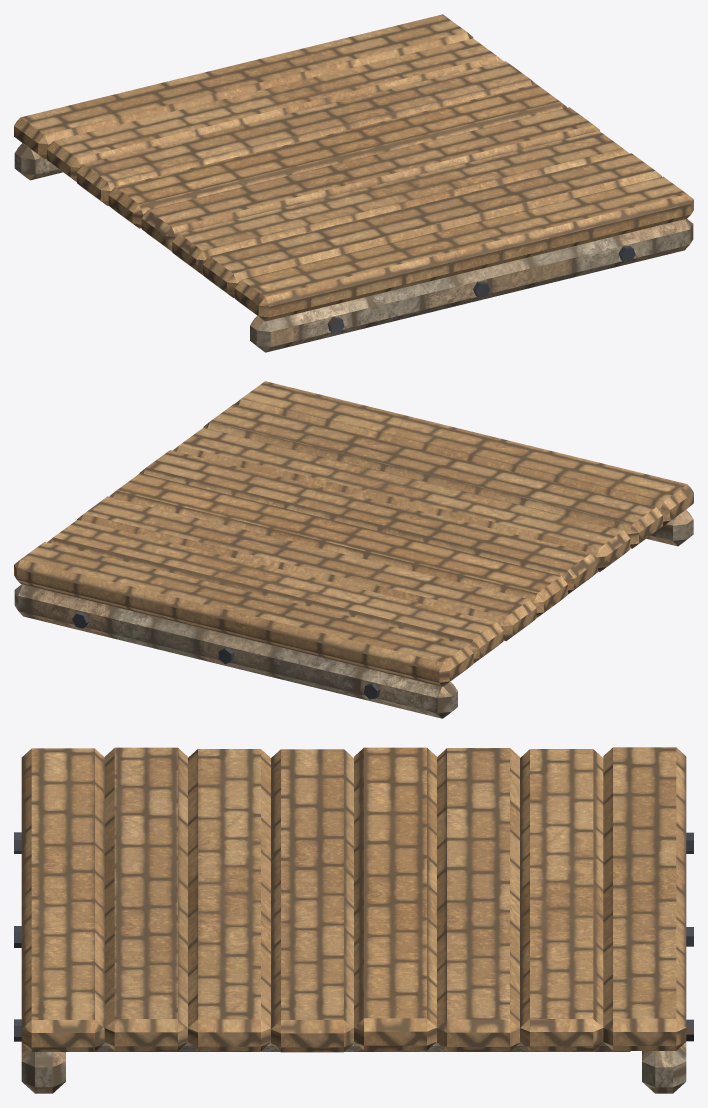
The model's file is kare_zemin.glb.
3 views of the same model, one above another, from view 1: azimuth 30°, elevation 25°; view 2: azimuth 150°, elevation 25°; view 3: azimuth 270°, elevation 25° (orthographic). The views are drawn at different scales.
Visible parts, largest first — view 1: kare_zemin; view 2: kare_zemin; view 3: kare_zemin.
Boxes of the visible parts, x1=… form: kare_zemin: x1=14, y1=14, x2=693, y2=352; kare_zemin: x1=14, y1=381, x2=693, y2=718; kare_zemin: x1=14, y1=747, x2=693, y2=1093.
Bounding box in the file's own units: 3 × 0.3783 × 3.07.
Materials: 1 (1 with a texture image).
